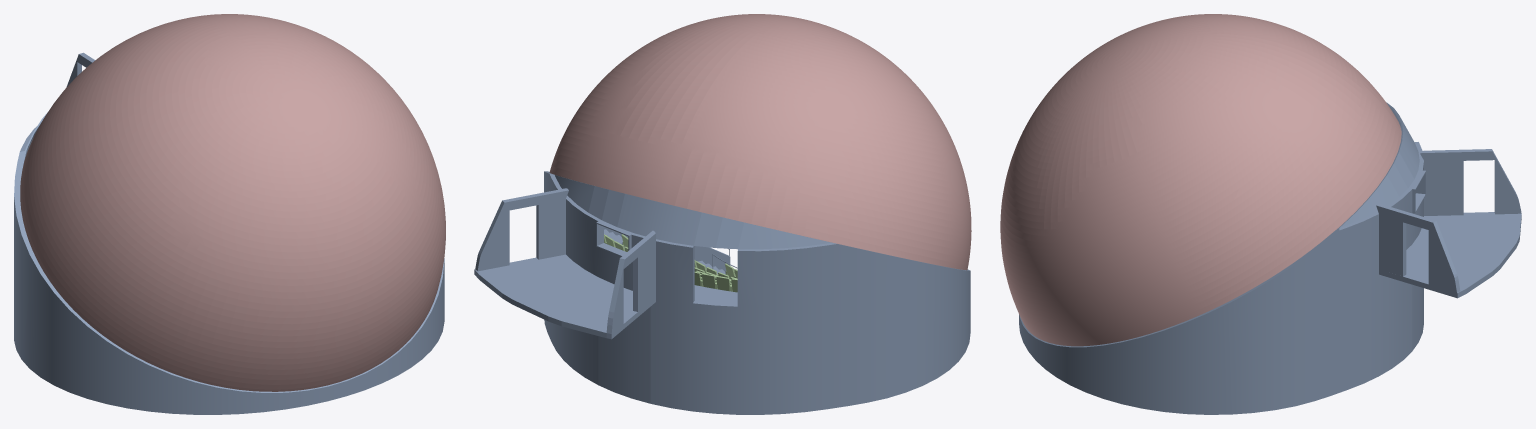
File: wisdome.glb
3 renders of one model, left to right at view 1: azimuth 30°, elevation 25°; view 2: azimuth 150°, elevation 25°; view 3: azimuth 270°, elevation 25°, orthographic.
Visible parts, largest first — view 1: Screen, Main; view 2: Main, Screen, Chairs; view 3: Screen, Main.
Part boxes in pixels (x1,y1,x2,y2): Screen: (20, 14, 445, 391); Main: (14, 52, 444, 414); Main: (474, 171, 970, 414); Screen: (549, 14, 971, 270); Chairs: (604, 234, 737, 292); Screen: (1000, 14, 1401, 346); Main: (1019, 102, 1521, 414).
Bounding box in the file's own units: 15.28 × 11.25 × 18.35.
